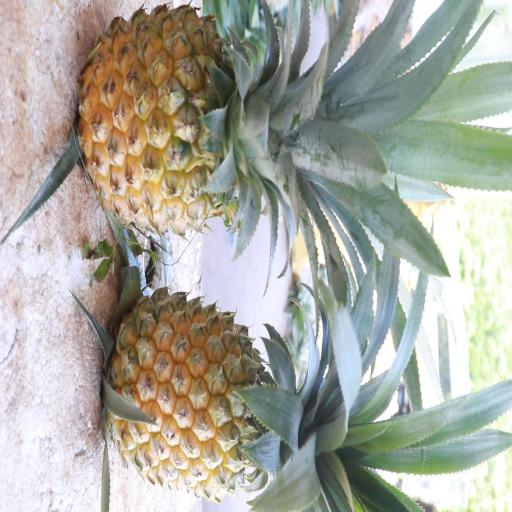Pineapple - v8 v1: (74, 0, 316, 247), (103, 278, 352, 500)
